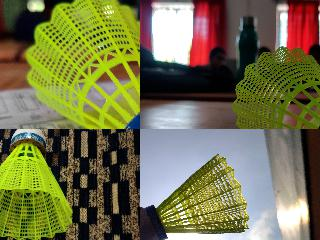shuttlecock: (23, 0, 139, 128), (140, 153, 249, 239), (0, 129, 73, 239), (231, 47, 319, 128)
